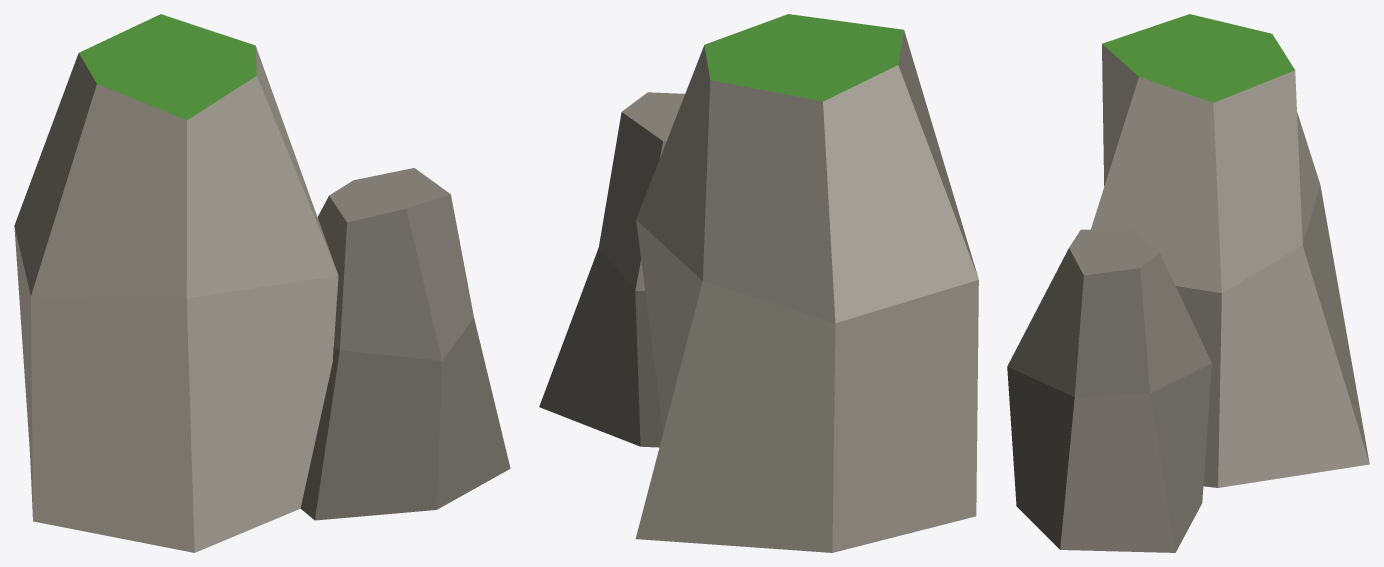
Rendered from Stone8.fbx.
3 renders of one model, left to right at view 1: azimuth 30°, elevation 25°; view 2: azimuth 150°, elevation 25°; view 3: azimuth 270°, elevation 25°, orthographic. The views are drawn at different scales.
Parts seen in each view (by area): view 1: Stone8; view 2: Stone8; view 3: Stone8.
Part boxes in pixels (<box>): Stone8: <box>14,14,510,552</box>; Stone8: <box>539,14,978,552</box>; Stone8: <box>1007,14,1369,552</box>.
Bounding box in the file's own units: 0.795 × 0.7518 × 0.6461.
